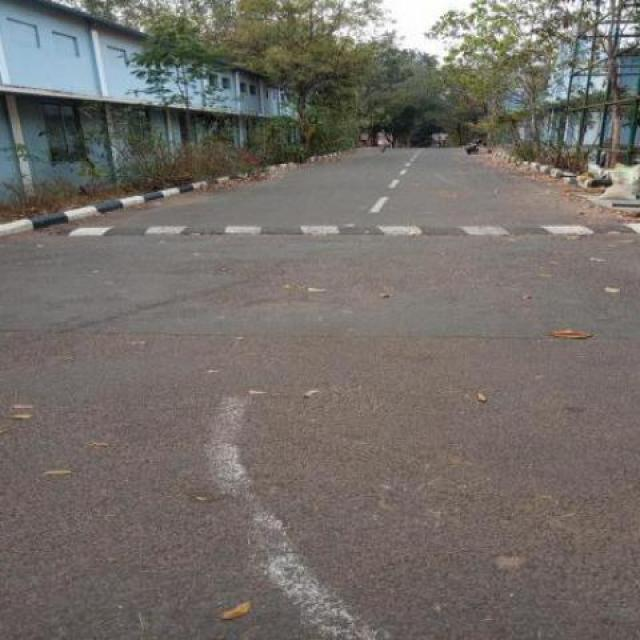Speed Bump: (36, 222, 639, 242)
